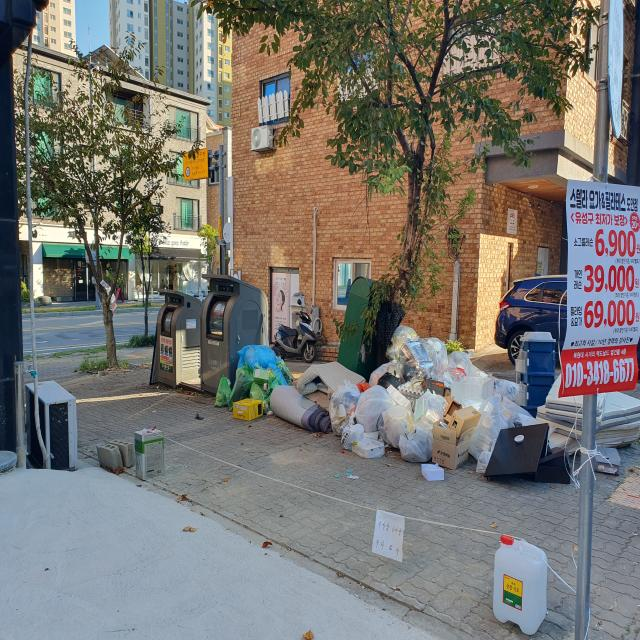CleanNet: (200, 272, 266, 396), (156, 288, 204, 388)
General Waste: (354, 337, 478, 463), (235, 344, 292, 401)
Large Waste Items: (540, 393, 640, 450), (517, 332, 557, 411), (271, 383, 332, 434), (298, 360, 364, 396)
